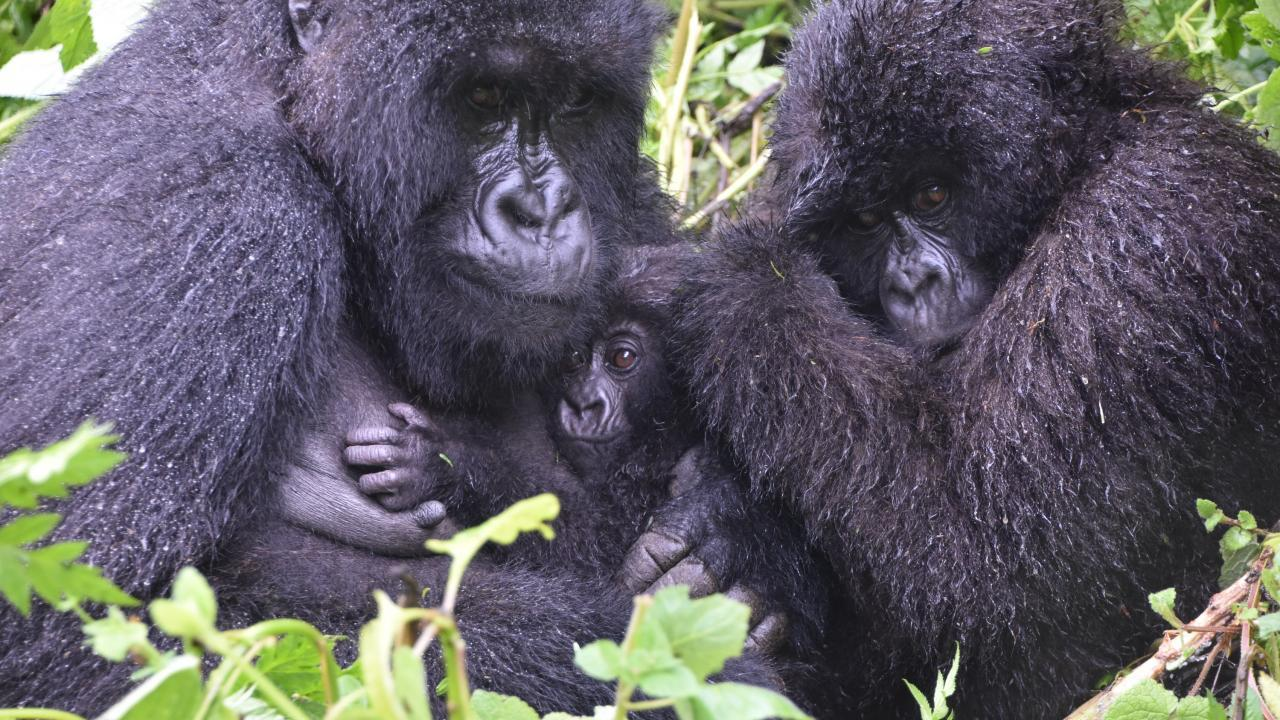goriile_montagne: (0, 2, 670, 720), (668, 0, 1280, 720), (533, 316, 670, 517)
